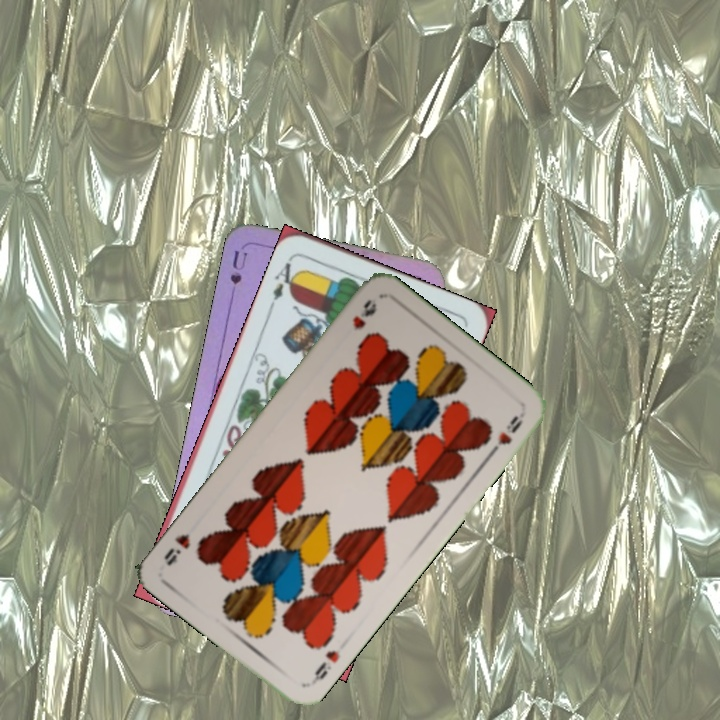EA: (266, 254, 303, 310)
H9: (307, 646, 342, 688), (348, 295, 380, 333)
SU: (225, 246, 250, 305)
